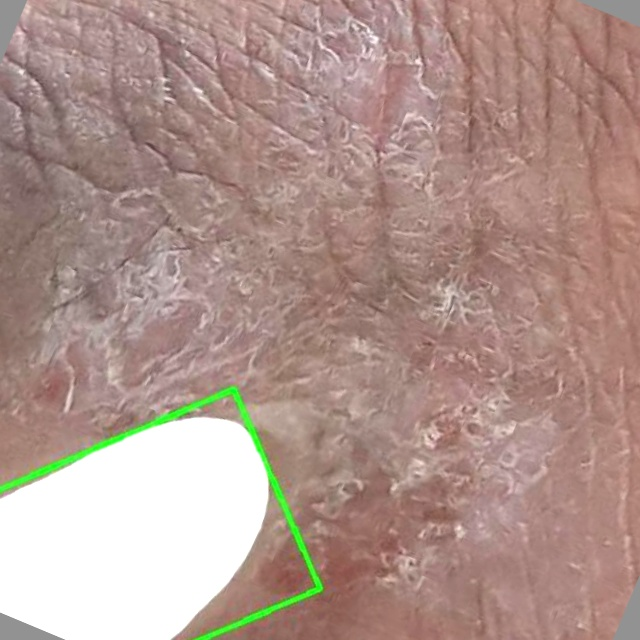Eczema: (0, 389, 319, 639)
